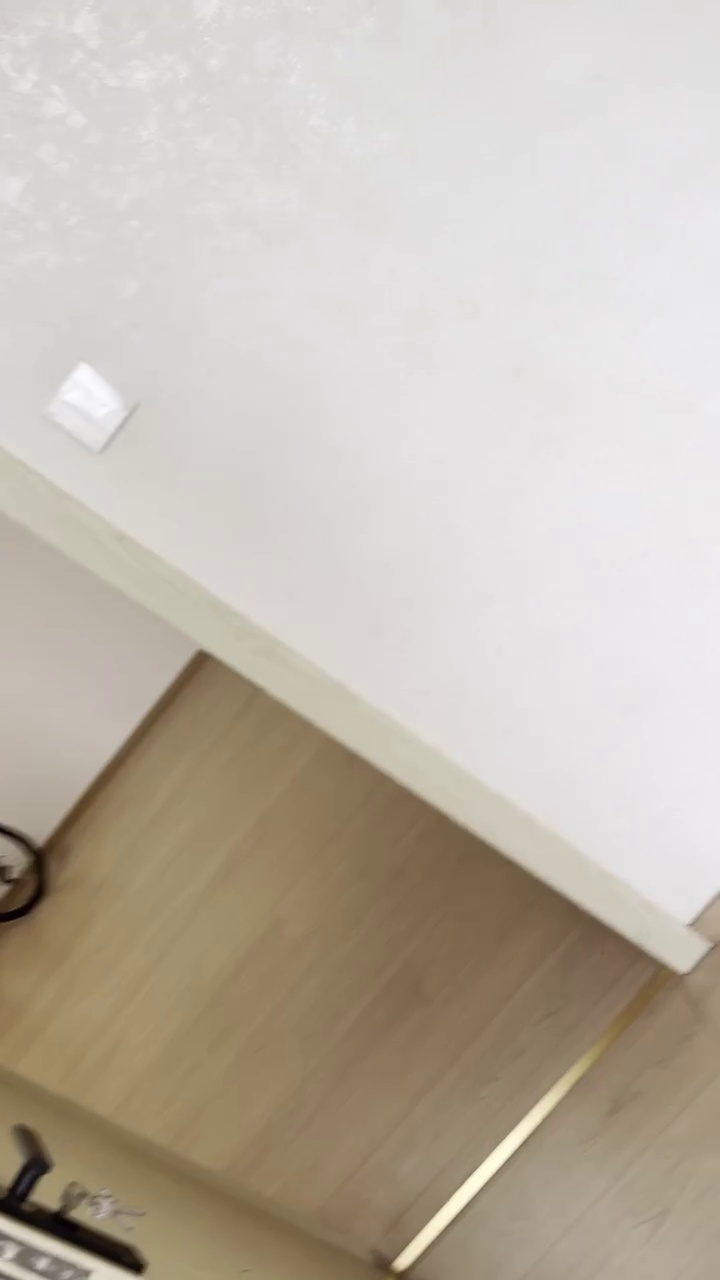button: (35, 362, 142, 453)
